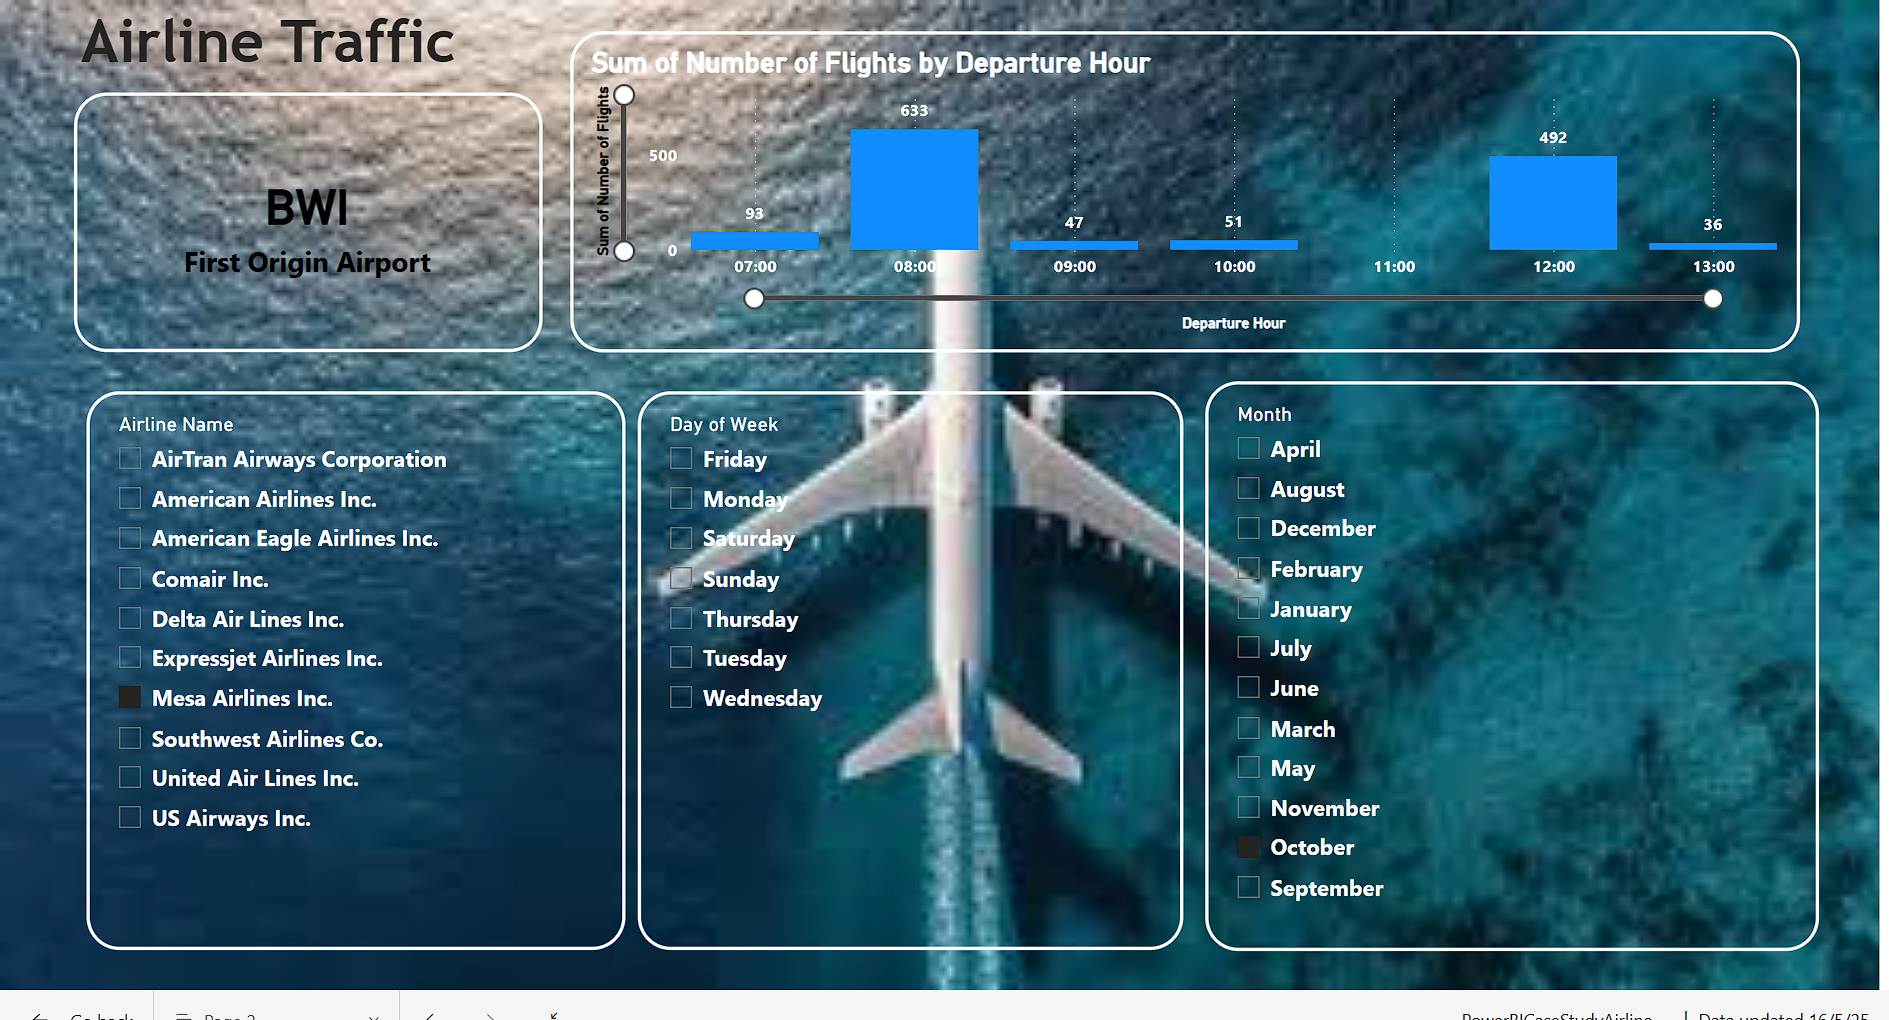

What the dashboard file says about the page in this screenshot:
{"tool":"powerbi","page":{"name":"Page 2","canvas":[1280,720],"ordinal":1},"visuals":[{"type":"textbox","box":[10.7,0,1254.7,97.9],"z":0},{"type":"slicer","fields":{"Values":["Sheet1.Airline Name"]},"box":[19.9,284.9,391.8,406.8],"z":1000},{"type":"card","fields":{"Values":["Min(Sheet1.Origin Airport)"]},"box":[11.2,67.2,340.8,189.1],"z":2000},{"type":"slicer","fields":{"Values":["Sheet1.Day of Week"]},"box":[420.5,284.9,396.8,406.8],"z":3000},{"type":"slicer","fields":{"Values":["Sheet1.Month"]},"box":[833.5,277.4,446.6,414.2],"z":4000},{"type":"columnChart","fields":{"Y":["Sum(Sheet1.Number of Flights)"],"Category":["Sheet1.Departure Hour"]},"box":[371.9,22.4,894.4,233.9],"z":5000}]}

Visuals, with their boxes in screenshot pixels (x1, y1, x2, y2):
textbox: {"left": 59, "top": 20, "right": 1809, "bottom": 156}
slicer - Sheet1.Airline Name: {"left": 72, "top": 417, "right": 618, "bottom": 984}
card - Min(Sheet1.Origin Airport): {"left": 60, "top": 113, "right": 535, "bottom": 377}
slicer - Sheet1.Day of Week: {"left": 631, "top": 417, "right": 1184, "bottom": 984}
slicer - Sheet1.Month: {"left": 1207, "top": 407, "right": 1830, "bottom": 984}
columnChart - Sum(Sheet1.Number of Flights) x Sheet1.Departure Hour: {"left": 563, "top": 51, "right": 1810, "bottom": 377}
